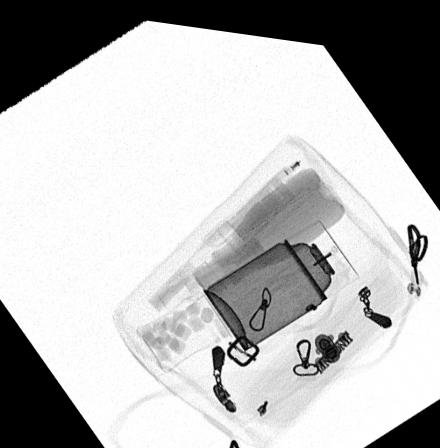Sprayer: (201, 209, 358, 343)
